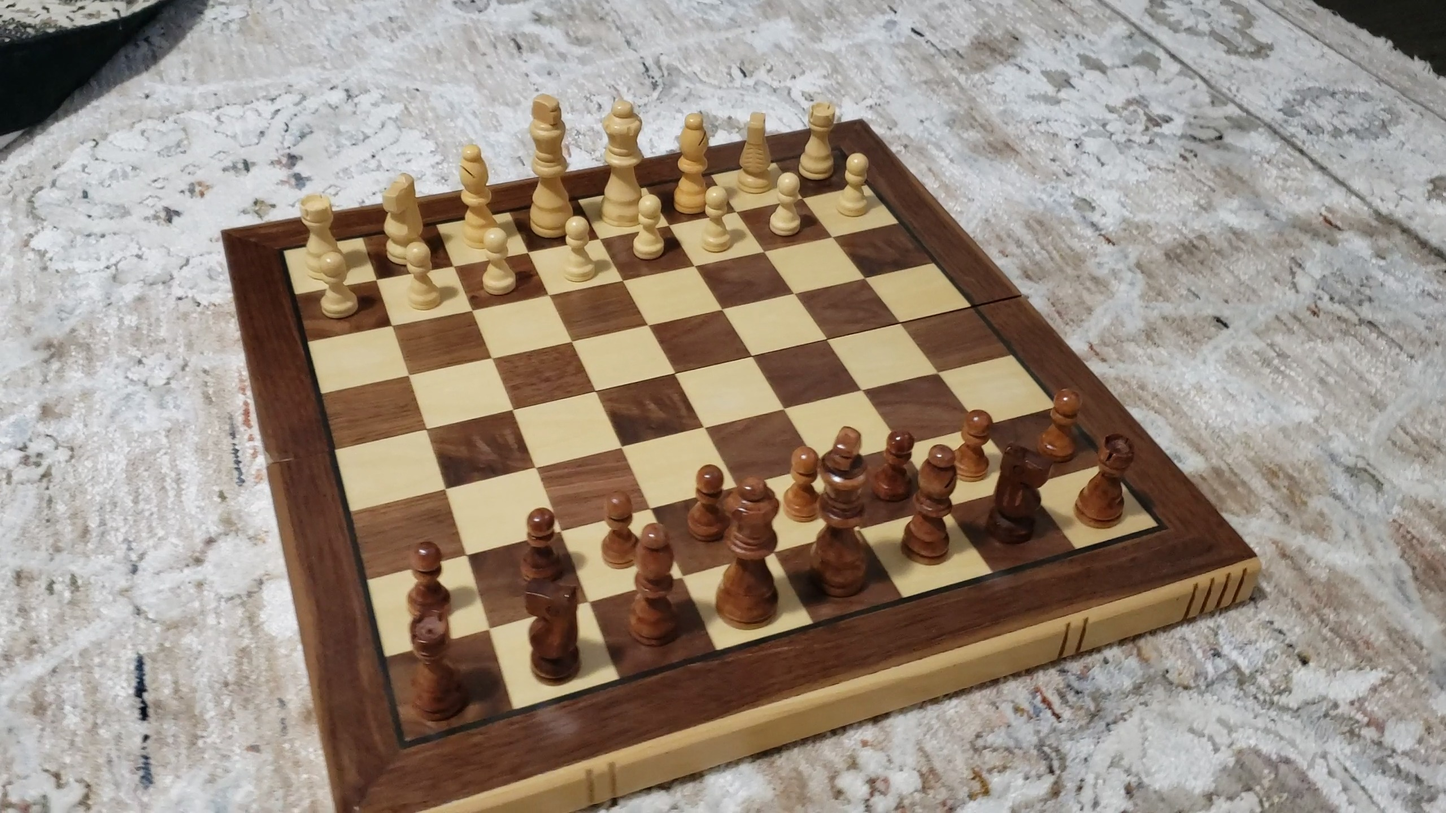black-bishop: (628, 521, 681, 646), (905, 443, 959, 564)
black-king: (810, 422, 872, 598)
black-knight: (521, 582, 583, 685), (985, 445, 1048, 545)
black-pawn: (405, 536, 452, 624), (1036, 384, 1085, 464), (519, 504, 567, 584), (686, 462, 731, 543), (598, 489, 641, 570), (783, 441, 822, 524), (954, 405, 995, 482), (879, 426, 916, 502)
black-queen: (715, 477, 785, 630)
black-rook: (393, 611, 474, 726), (1073, 433, 1138, 528)
white-bishop: (455, 139, 500, 251), (673, 107, 712, 217)
white-king: (526, 87, 572, 241)
white-knight: (381, 169, 425, 268), (735, 107, 774, 195)
white-pawn: (308, 247, 365, 325), (555, 209, 607, 288), (395, 237, 447, 315), (472, 223, 524, 301), (694, 179, 744, 257), (763, 164, 812, 242), (625, 188, 673, 266), (830, 147, 878, 223)
white-queen: (600, 94, 645, 228)
white-rook: (295, 189, 347, 282), (798, 96, 840, 186)
